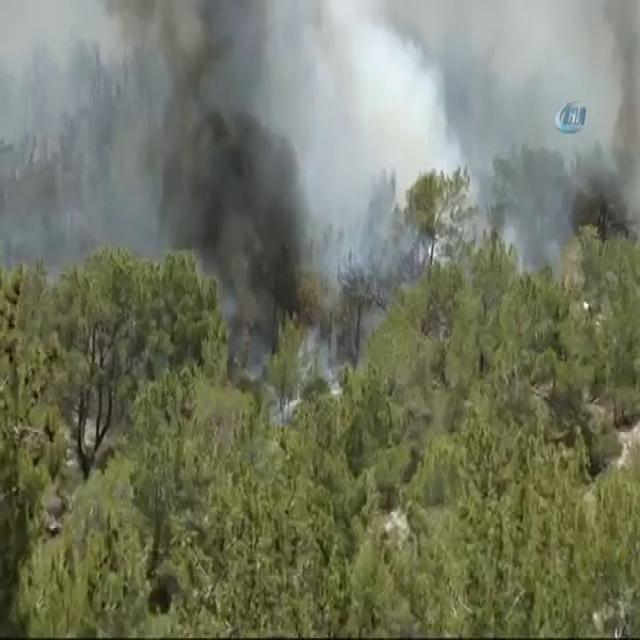Smoke: (4, 13, 524, 225)
